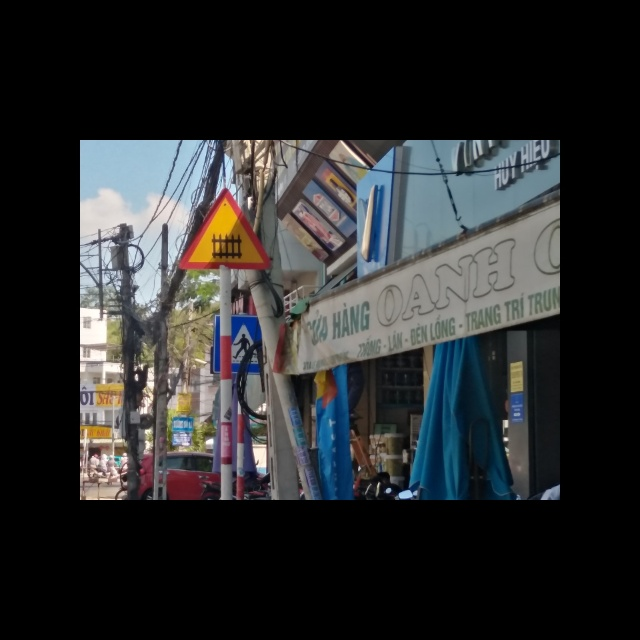Giao nhau với đường sắt có rào chắn: (176, 186, 273, 270)
